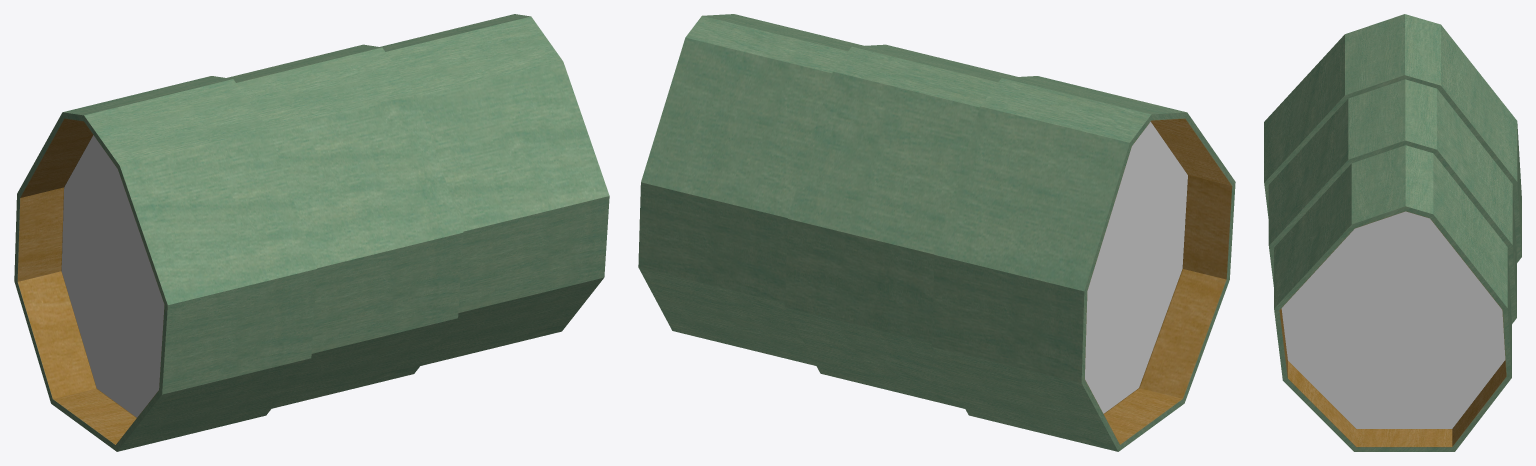
The model's file is Tunelo_Budka.fbx.
3 views of the same model, side by side, from view 1: azimuth 30°, elevation 25°; view 2: azimuth 150°, elevation 25°; view 3: azimuth 270°, elevation 25° (orthographic). The views are drawn at different scales.
Parts seen in each view (by area): view 1: Tunelo_Budka; view 2: Tunelo_Budka; view 3: Tunelo_Budka.
Boxes of the visible parts, left/top/right/bottom form: Tunelo_Budka: left=14, top=14, right=609, bottom=451; Tunelo_Budka: left=638, top=14, right=1235, bottom=451; Tunelo_Budka: left=1264, top=14, right=1521, bottom=451.
Size of the model in its own units: 600 by 400 by 356.
